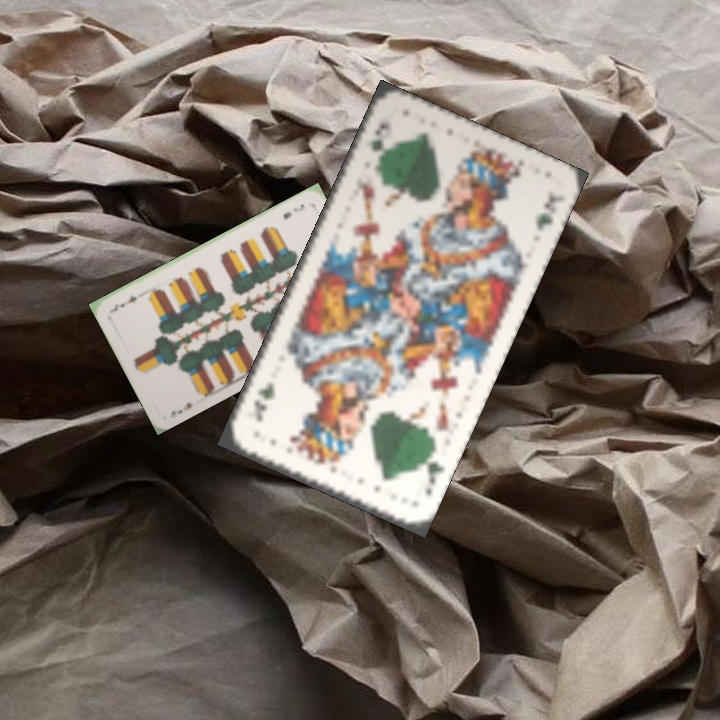E7: (279, 200, 307, 222), (166, 398, 194, 420)
GK: (416, 448, 447, 499), (366, 117, 390, 169)
